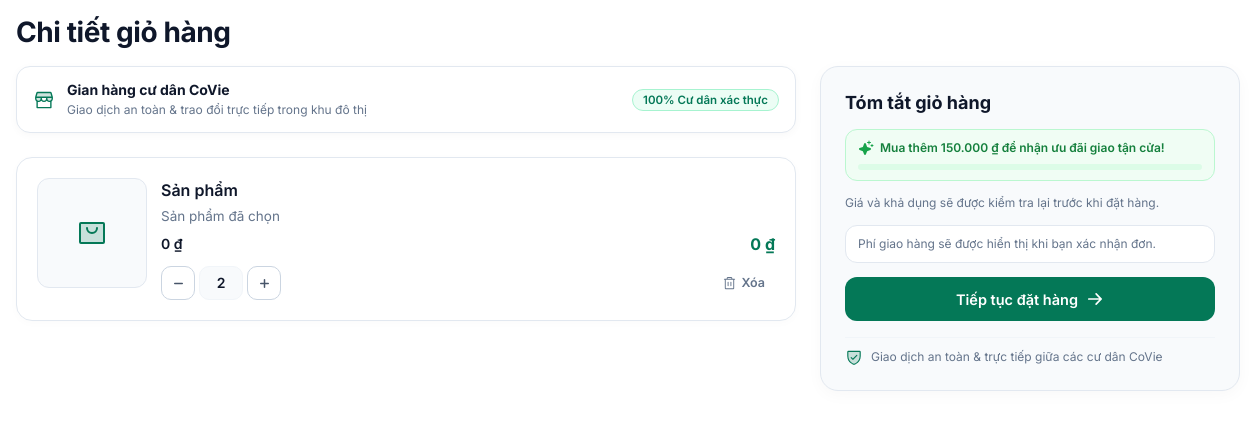
Test: cart detail › blocks stale cart after refresh failure (conflict=false) and retries only the read
The image size is (1257, 444).
Click the button named "Tăng số lượng": (264, 283) [247,266,281,300]
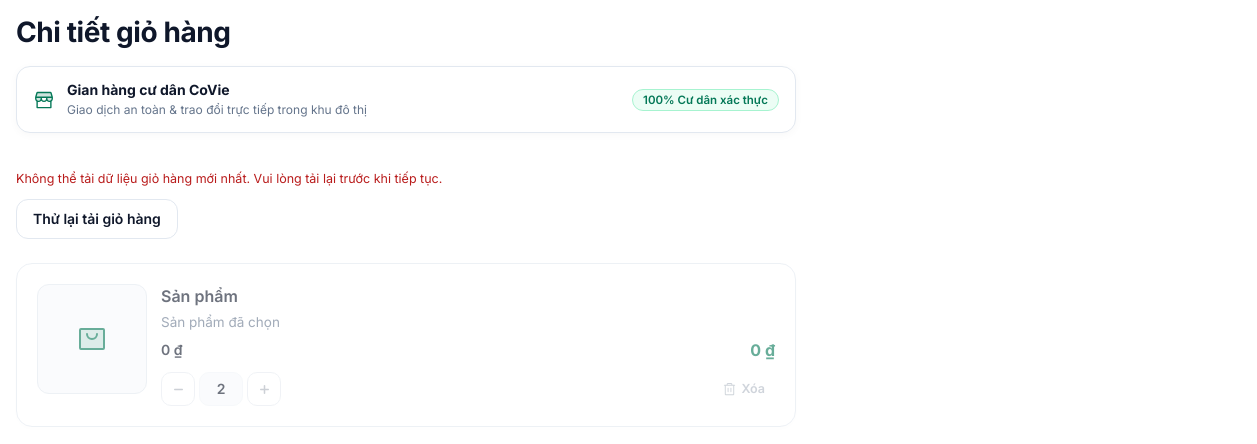
Check: the button named "Tăng số lượng" is disabled, box [247,372,281,406]
Check: the link "Tiếp tục đặt hàng" is gone
Click the button "Thử lại tải giỏ hàng": (97, 219) [16,199,178,239]
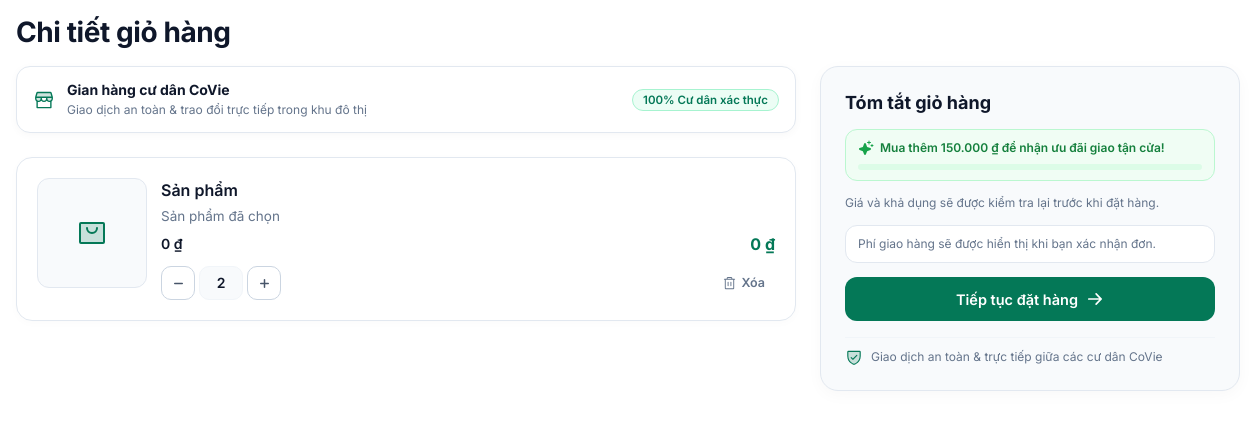
Check: the link "Tiếp tục đặt hàng" is shown, box [845,277,1215,321]
